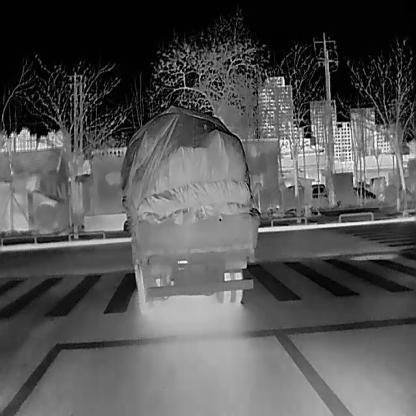car: (121, 103, 261, 314), (326, 171, 353, 205), (311, 183, 327, 197)
